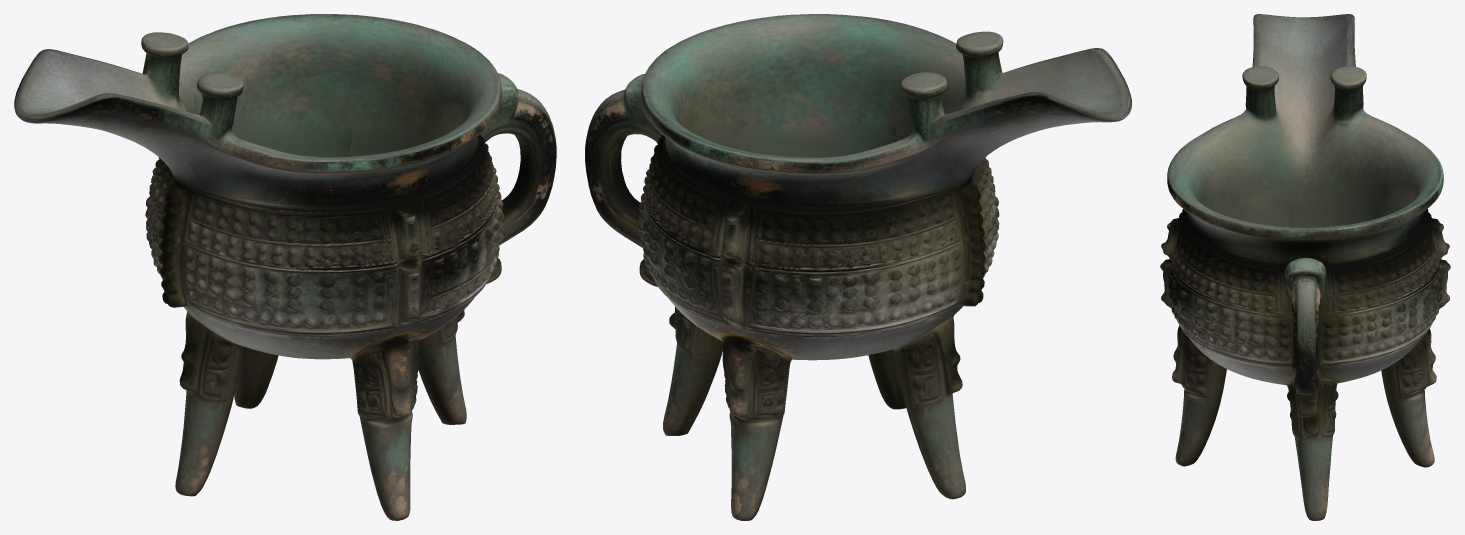
File: erlitou-jue.glb
3 renders of one model, left to right at view 1: azimuth 30°, elevation 25°; view 2: azimuth 150°, elevation 25°; view 3: azimuth 270°, elevation 25°, orthographic. The views are drawn at different scales.
Visible parts, largest first — view 1: convert; view 2: convert; view 3: convert.
Boxes of the visible parts, box(x1,y1,x2,y2) form: convert: box(14, 14, 556, 520); convert: box(585, 14, 1131, 520); convert: box(1160, 14, 1450, 520).
Size of the model in its own units: 0.9854 by 0.7944 by 0.5907.
Materials: 1 (1 with a texture image).
